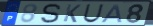8: (20, 3, 39, 24), (126, 3, 145, 24)
A: (100, 4, 123, 23)
K: (62, 4, 82, 24)
S: (41, 3, 63, 24)
U: (82, 3, 105, 24)
